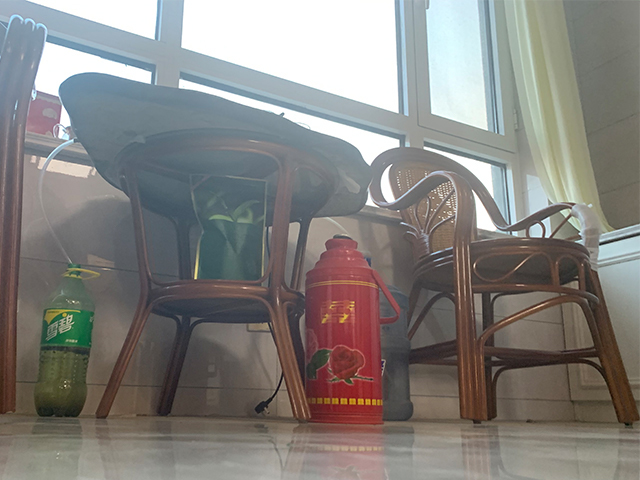curtain: (502, 2, 616, 235)
stool: (367, 147, 640, 429)
table: (58, 71, 374, 424)
